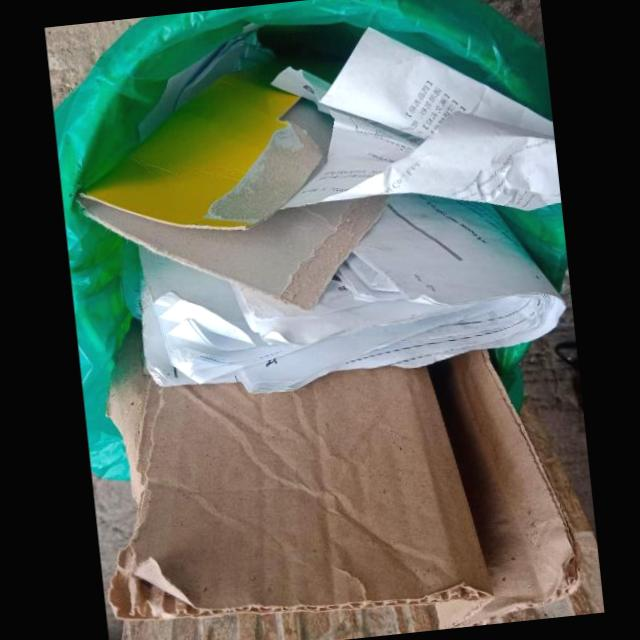carton: (104, 312, 579, 629), (76, 70, 391, 309)
giay: (136, 191, 567, 395)
